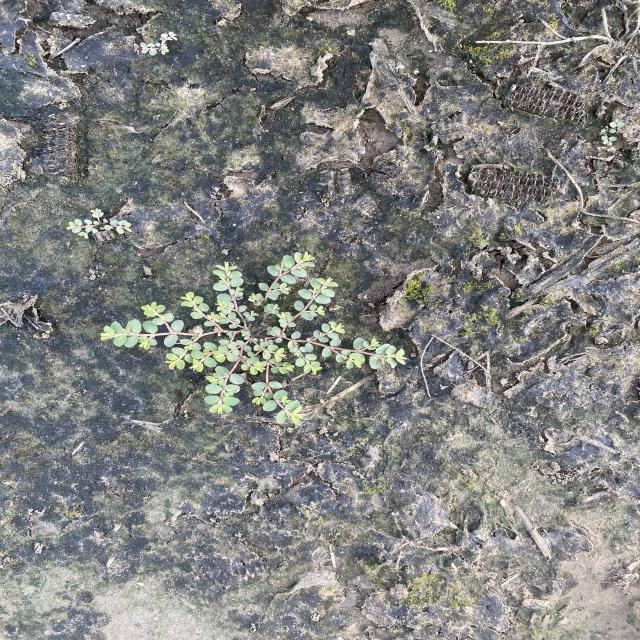SpottedSpurge: (96, 250, 410, 427), (62, 206, 137, 241), (134, 30, 180, 57)
